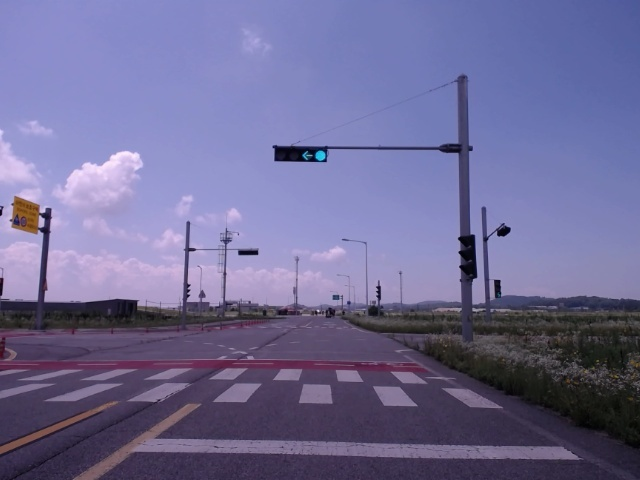all_green_4: (276, 144, 328, 162)
